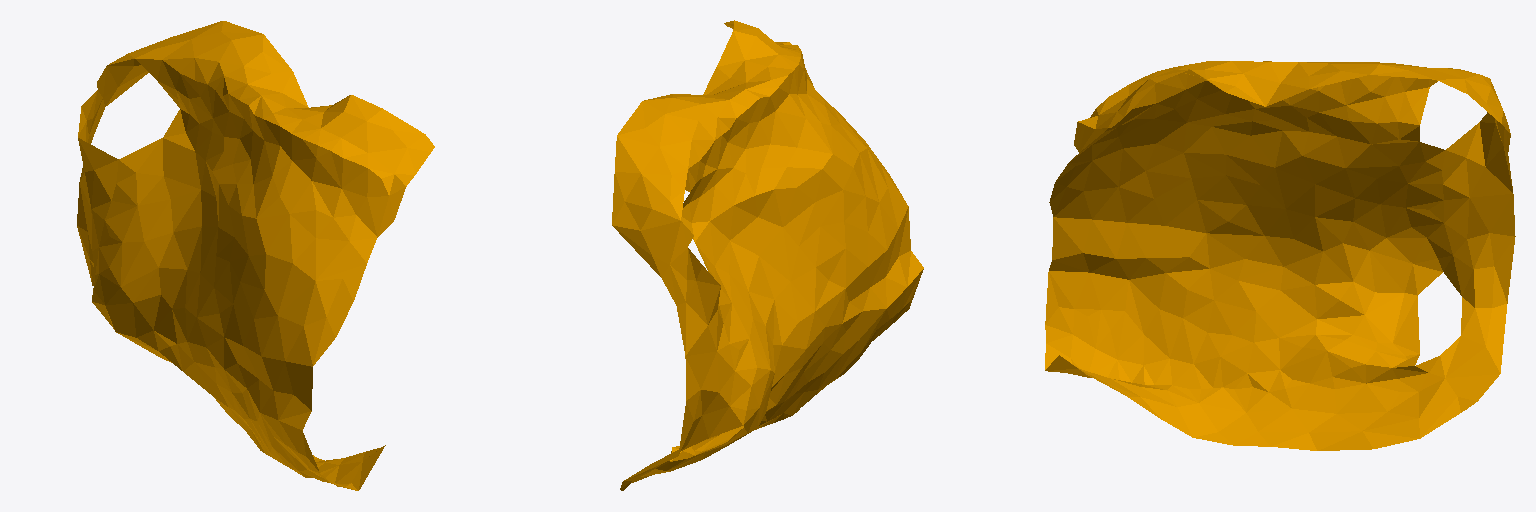
URDF robot description (init):
<?xml version='1.0' encoding='utf-8'?>
<robot name="init">
<link name="link_0"><inertial><mass value="1.0" /><origin rpy="0 0 0" xyz="0.000000 0.000000 0.000000" /><inertia ixx="1.0" ixy="0.0" ixz="0.0" iyy="1.0" iyz="0.0" izz="1.0" /></inertial><visual><origin rpy="0 0 0" xyz="0.000000 0.000000 0.000000" /><geometry><mesh filename="./clothHuman/cloth/2558.obj" /></geometry></visual><collision><origin rpy="0 0 0" xyz="0.000000 0.000000 0.000000" /><geometry><mesh filename="./clothHuman/cloth/2558.obj" /></geometry></collision></link></robot>

--- Render facts (derived) ---
Views: 3 orthographic renders of the robot side by side, from view 1: azimuth 30°, elevation 25°; view 2: azimuth 150°, elevation 25°; view 3: azimuth 270°, elevation 25°.
Robot: init — 1 links, 0 joints (none); root link link_0; default pose: all joints at 0.
Visible links, largest first — view 1: link_0; view 2: link_0; view 3: link_0.
Link boxes in pixels (x1,y1,x2,y2): link_0: [77, 21, 434, 490]; link_0: [612, 20, 923, 490]; link_0: [1045, 61, 1515, 450].
Size in the robot's own frame: 1.72 by 3.82 by 3.46 metres.
Meshes: 1 distinct files referenced, 1 mesh visuals loaded (1 OBJ).